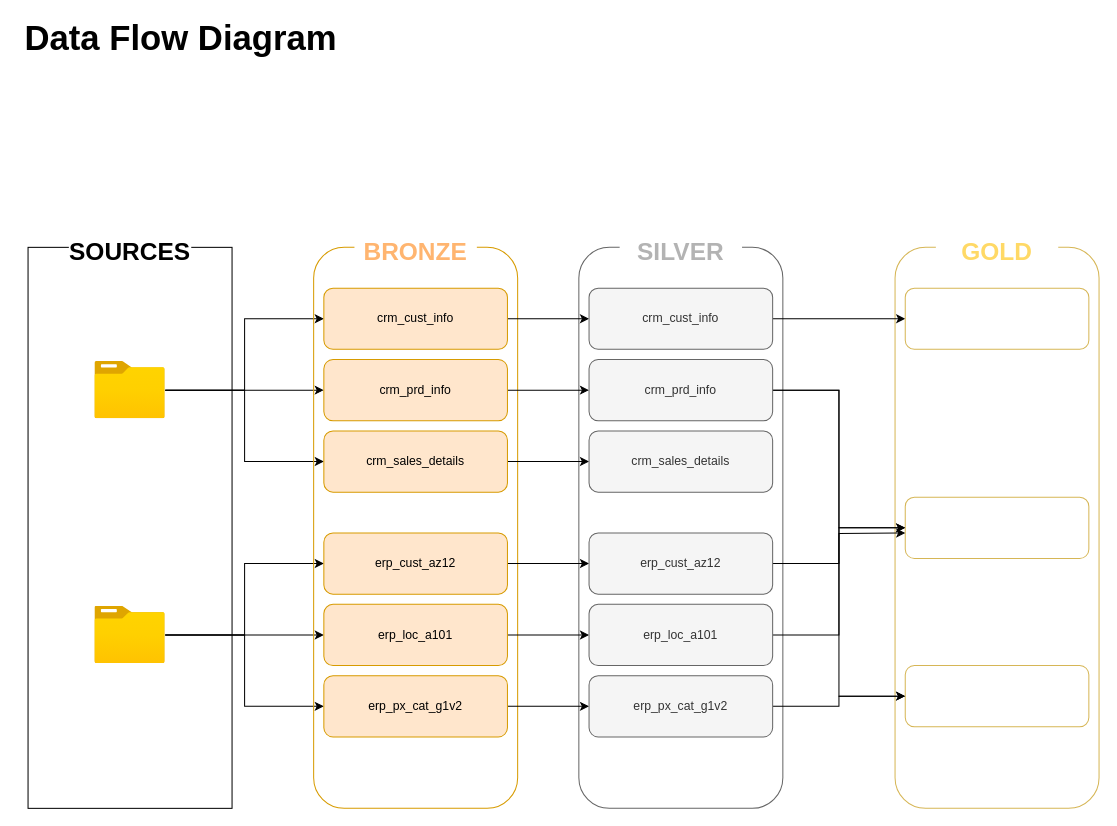
The diagram is 1117 pixels wide and 826 high, and some of its shapes have lost their labels. Here are the shapes that lost their labels. From the top down, the box of each, then its label:
(904, 287, 1089, 349): fact_sales
(94, 361, 165, 418): CRM
(904, 496, 1089, 558): dm_customers
(94, 606, 165, 663): ERP
(904, 665, 1089, 727): dim_product
